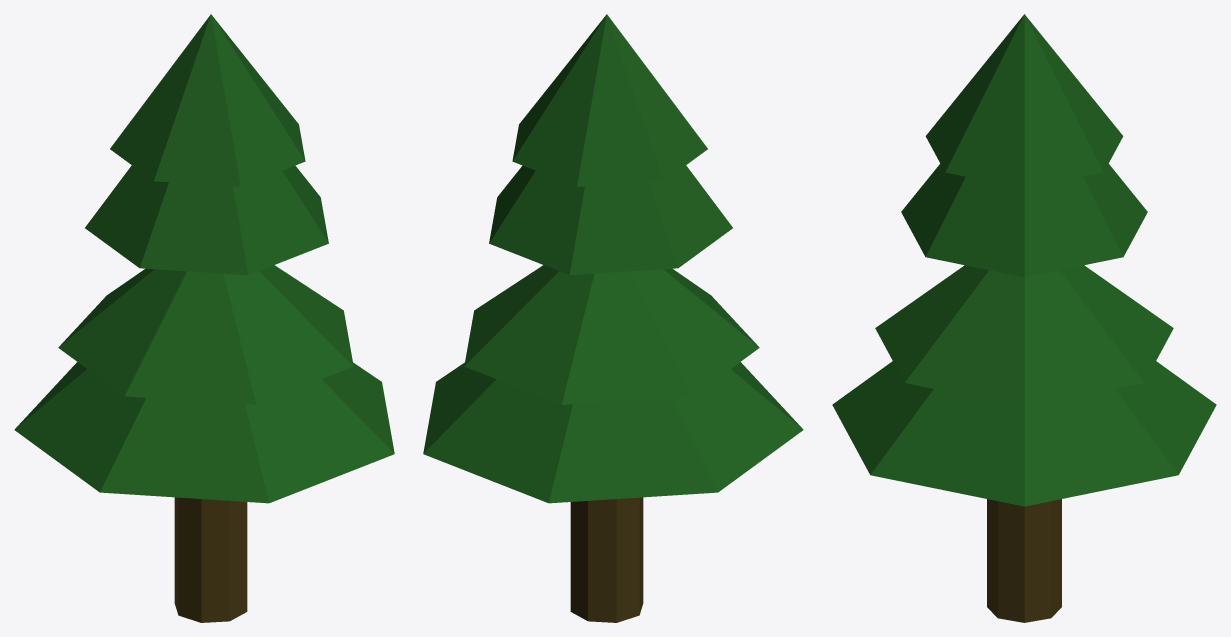
The model's file is tree2.fbx.
3 renders of one model, left to right at view 1: azimuth 30°, elevation 25°; view 2: azimuth 150°, elevation 25°; view 3: azimuth 270°, elevation 25°, orthographic.
Visible parts, largest first — view 1: tree2, tronc_1_2_3; view 2: tree2, tronc_1_2_3; view 3: tree2, tronc_1_2_3.
Part boxes in pixels (x1,y1,x2,y2): tree2: [14, 14, 394, 503]; tronc_1_2_3: [174, 497, 247, 622]; tree2: [423, 14, 803, 503]; tronc_1_2_3: [570, 497, 643, 622]; tree2: [832, 14, 1216, 506]; tronc_1_2_3: [987, 499, 1061, 622].
Size of the model in its own units: 6.98 by 12.18 by 7.16.
